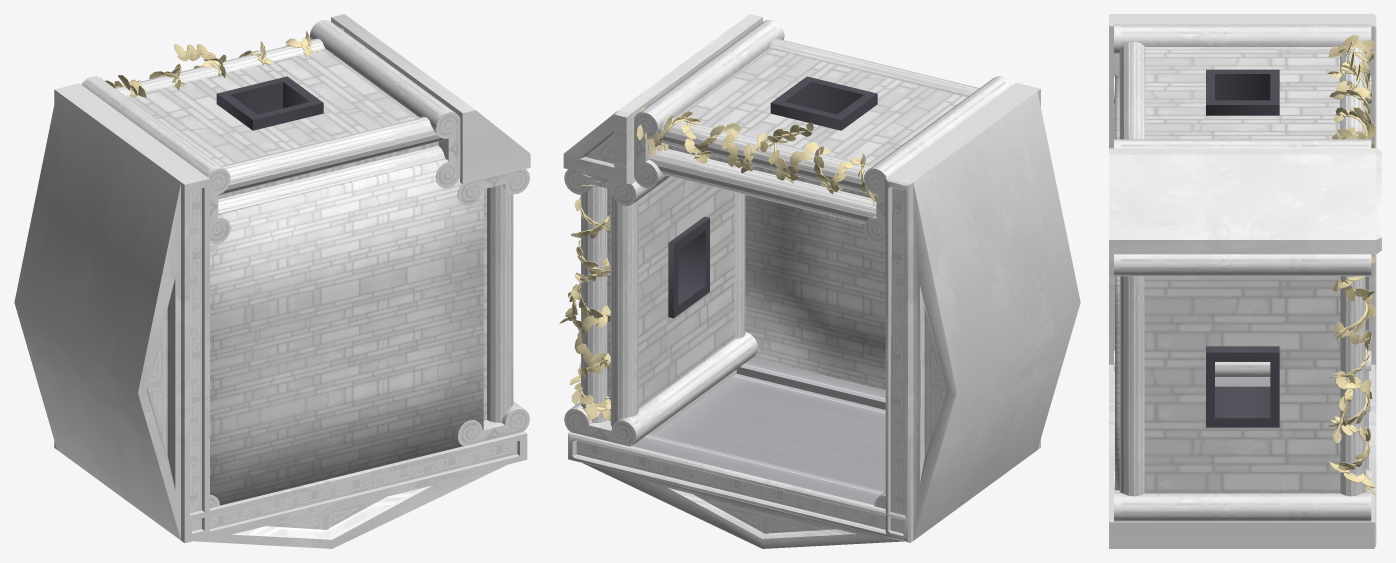
The model's file is RightBorderRoom.fbx.
3 views of the same model, side by side, from view 1: azimuth 30°, elevation 25°; view 2: azimuth 150°, elevation 25°; view 3: azimuth 270°, elevation 25° (orthographic).
Parts seen in each view (by area): view 1: Plane.006; view 2: Plane.006; view 3: Plane.006.
Boxes of the visible parts, x1,y1,x2,y2 form: Plane.006: [14, 14, 530, 548]; Plane.006: [559, 14, 1080, 548]; Plane.006: [1109, 14, 1381, 548].
Size of the model in its own units: 5745 by 5736 by 3240.
Materials: 2 (2 with a texture image).
